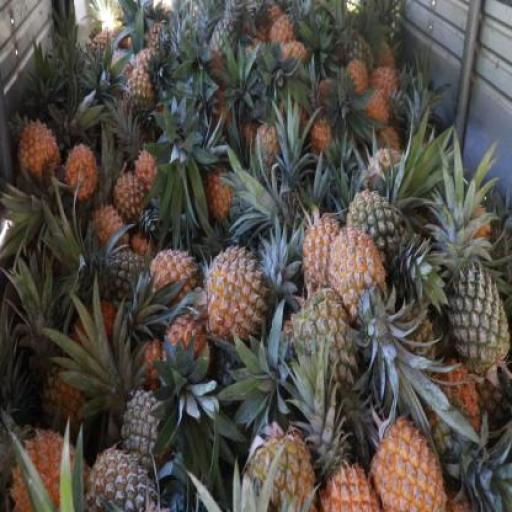------------------------------: (292, 288, 359, 388), (348, 192, 412, 290), (46, 360, 96, 435), (125, 66, 158, 124)
Pineapple - v8 v1: (374, 423, 453, 511), (330, 228, 394, 330), (14, 424, 89, 511), (208, 248, 270, 344), (304, 219, 352, 307), (166, 315, 214, 394), (23, 122, 63, 182), (152, 249, 194, 305), (69, 144, 100, 203), (116, 171, 154, 218)
